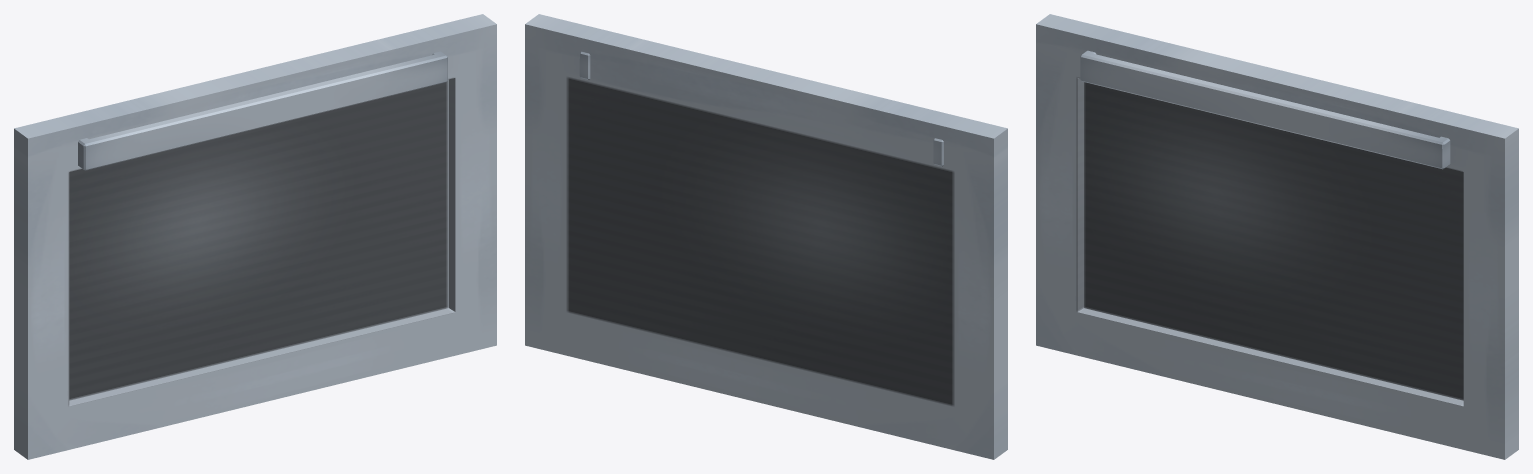
The model's file is StoveDoor.fbx.
3 views of the same model, side by side, from view 1: azimuth 30°, elevation 25°; view 2: azimuth 150°, elevation 25°; view 3: azimuth 330°, elevation 25° (orthographic).
Parts seen in each view (by area): view 1: StoveDoor; view 2: StoveDoor; view 3: StoveDoor.
Boxes of the visible parts, <box> form: StoveDoor: <box>14,14,496,459</box>; StoveDoor: <box>525,14,1007,459</box>; StoveDoor: <box>1036,14,1518,459</box>.
Bounding box in the file's own units: 111 × 72.84 × 8.79.
